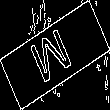M_SE: (30, 22, 80, 88)
